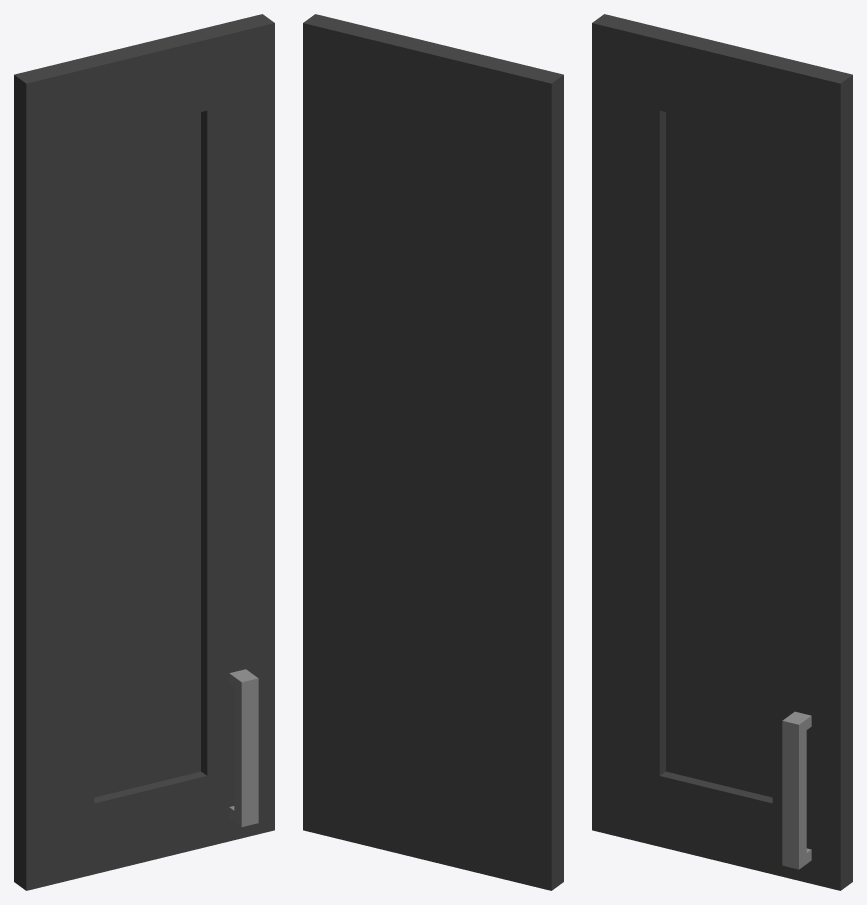
The model's file is Door2_C3_14.fbx.
3 views of the same model, side by side, from view 1: azimuth 30°, elevation 25°; view 2: azimuth 150°, elevation 25°; view 3: azimuth 330°, elevation 25° (orthographic).
Visible parts, largest first — view 1: Door2_C3_14; view 2: Door2_C3_14; view 3: Door2_C3_14.
Boxes of the visible parts, x1=… form: Door2_C3_14: x1=14, y1=14, x2=274, y2=890; Door2_C3_14: x1=303, y1=14, x2=563, y2=890; Door2_C3_14: x1=592, y1=14, x2=852, y2=890.
Bounding box in the file's own units: 29 × 90 × 5.03.
